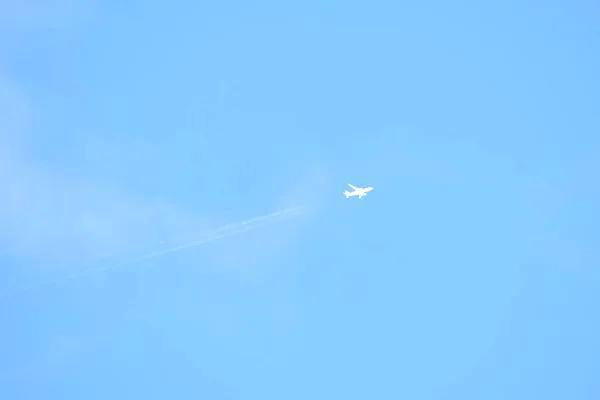Plane: (325, 175, 388, 206)
